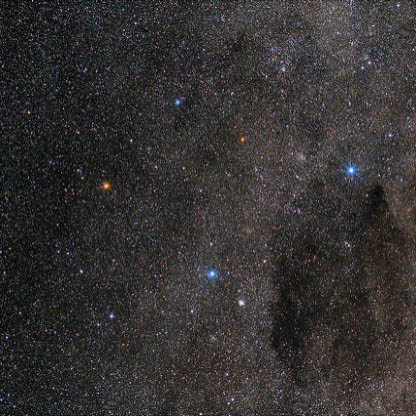Southern Cross: (333, 152, 369, 190), (86, 171, 122, 201), (200, 261, 227, 286), (167, 89, 191, 113)
